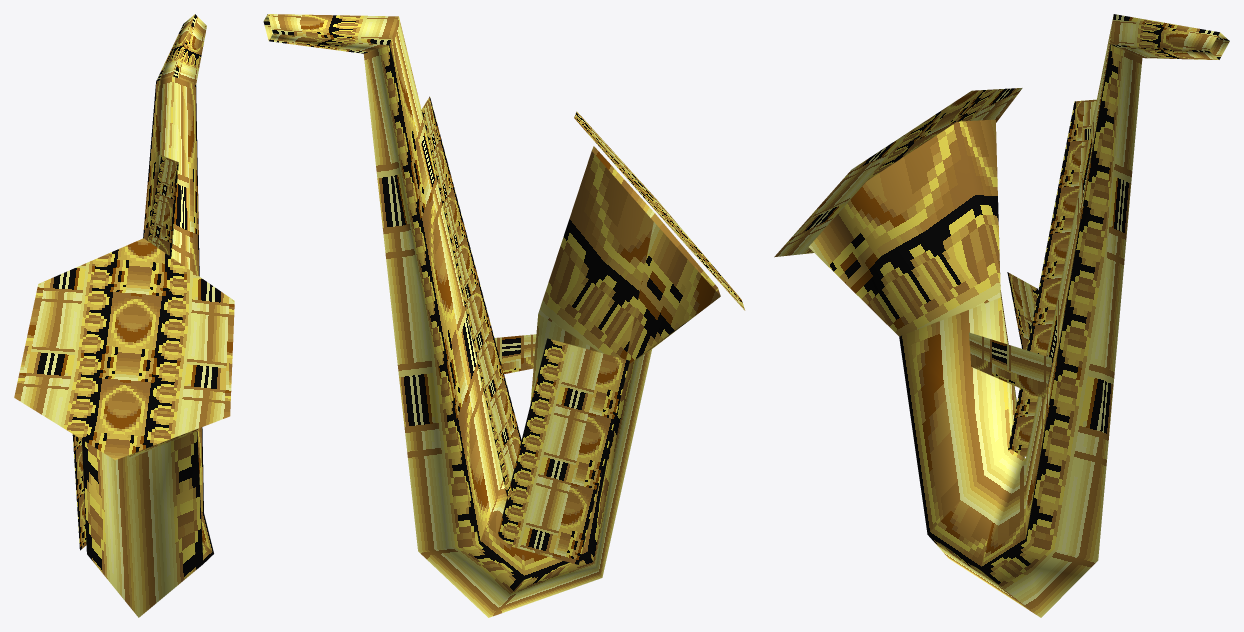
File: 1344gakki03_c.gltf
3 renders of one model, left to right at view 1: azimuth 30°, elevation 25°; view 2: azimuth 150°, elevation 25°; view 3: azimuth 270°, elevation 25°, orthographic. The views are drawn at different scales.
Visible parts, largest first — view 1: 1344gakki03_c; view 2: 1344gakki03_c; view 3: 1344gakki03_c.
Part boxes in pixels (box(x1,y1,x2,y2)): 1344gakki03_c: box(14, 14, 234, 617); 1344gakki03_c: box(263, 14, 745, 617); 1344gakki03_c: box(774, 14, 1229, 617).
Bounding box in the file's own units: 0.5261 × 0.8823 × 0.5586.
1 material, 1 textured.
